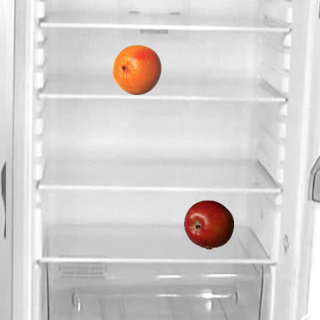Apple Braeburn: (183, 199, 233, 249)
Grapefruit Pink: (111, 44, 161, 94)
